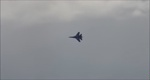maybay_muctieu: (67, 29, 84, 43)
